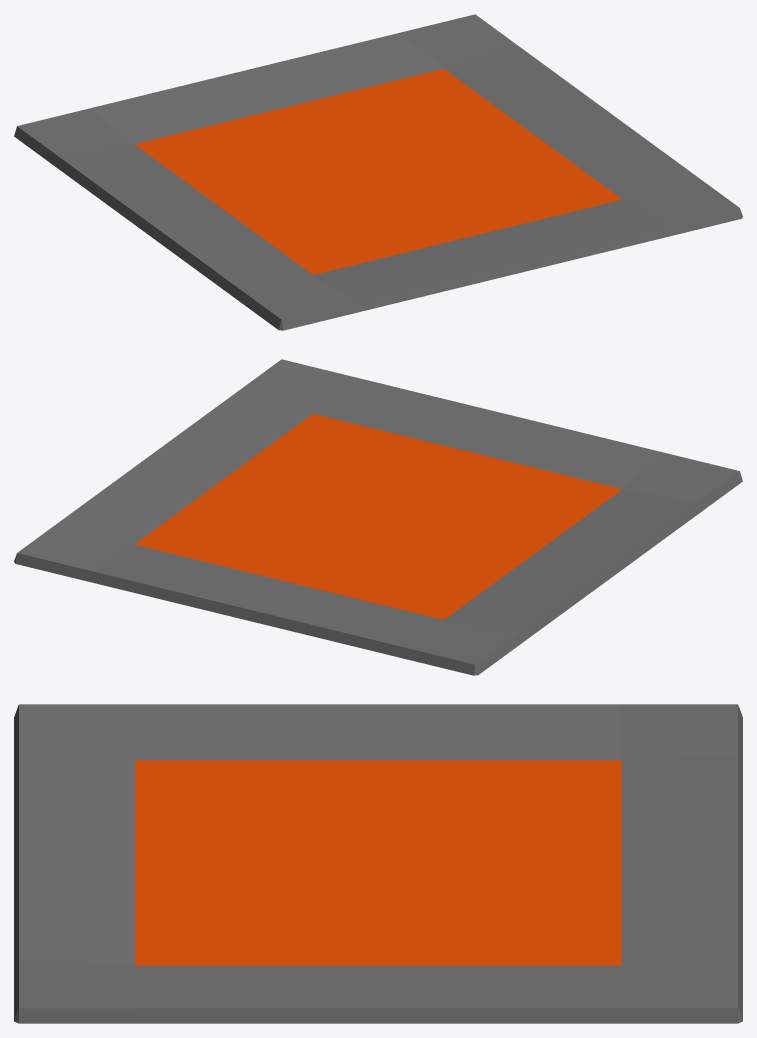
Rendered from p1-start.glb.
The picture shows the model from 3 angles, top to bottom: view 1: azimuth 30°, elevation 25°; view 2: azimuth 150°, elevation 25°; view 3: azimuth 270°, elevation 25°; orthographic projection. The views are drawn at different scales.
Visible parts, largest first — view 1: Start; view 2: Start; view 3: Start.
Part boxes in pixels (box(x1,y1,x2,y2)): Start: box(14, 14, 742, 330); Start: box(14, 359, 742, 675); Start: box(14, 704, 742, 1023).
Bounding box in the file's own units: 6 × 0.1187 × 6.
